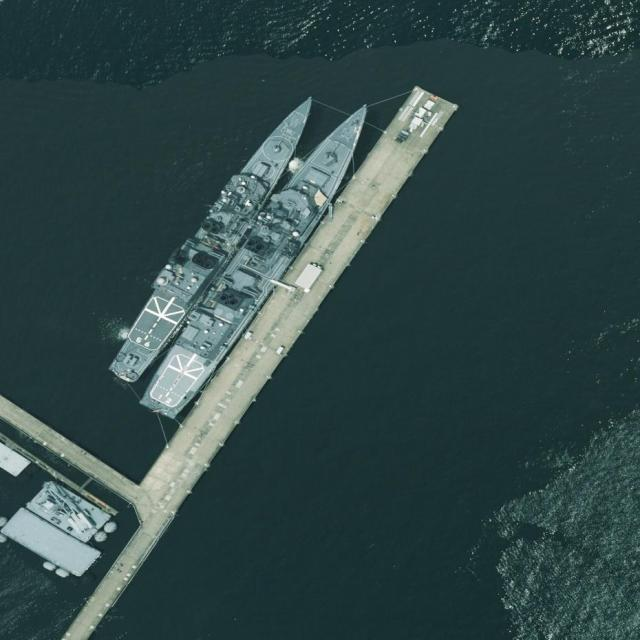Destroyer: (131, 86, 392, 434), (104, 84, 328, 388)
Dock: (137, 83, 459, 509)
